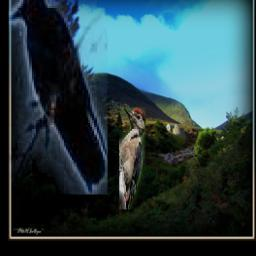Crow: (9, 0, 108, 195)
Woodpecker: (120, 108, 146, 210)
